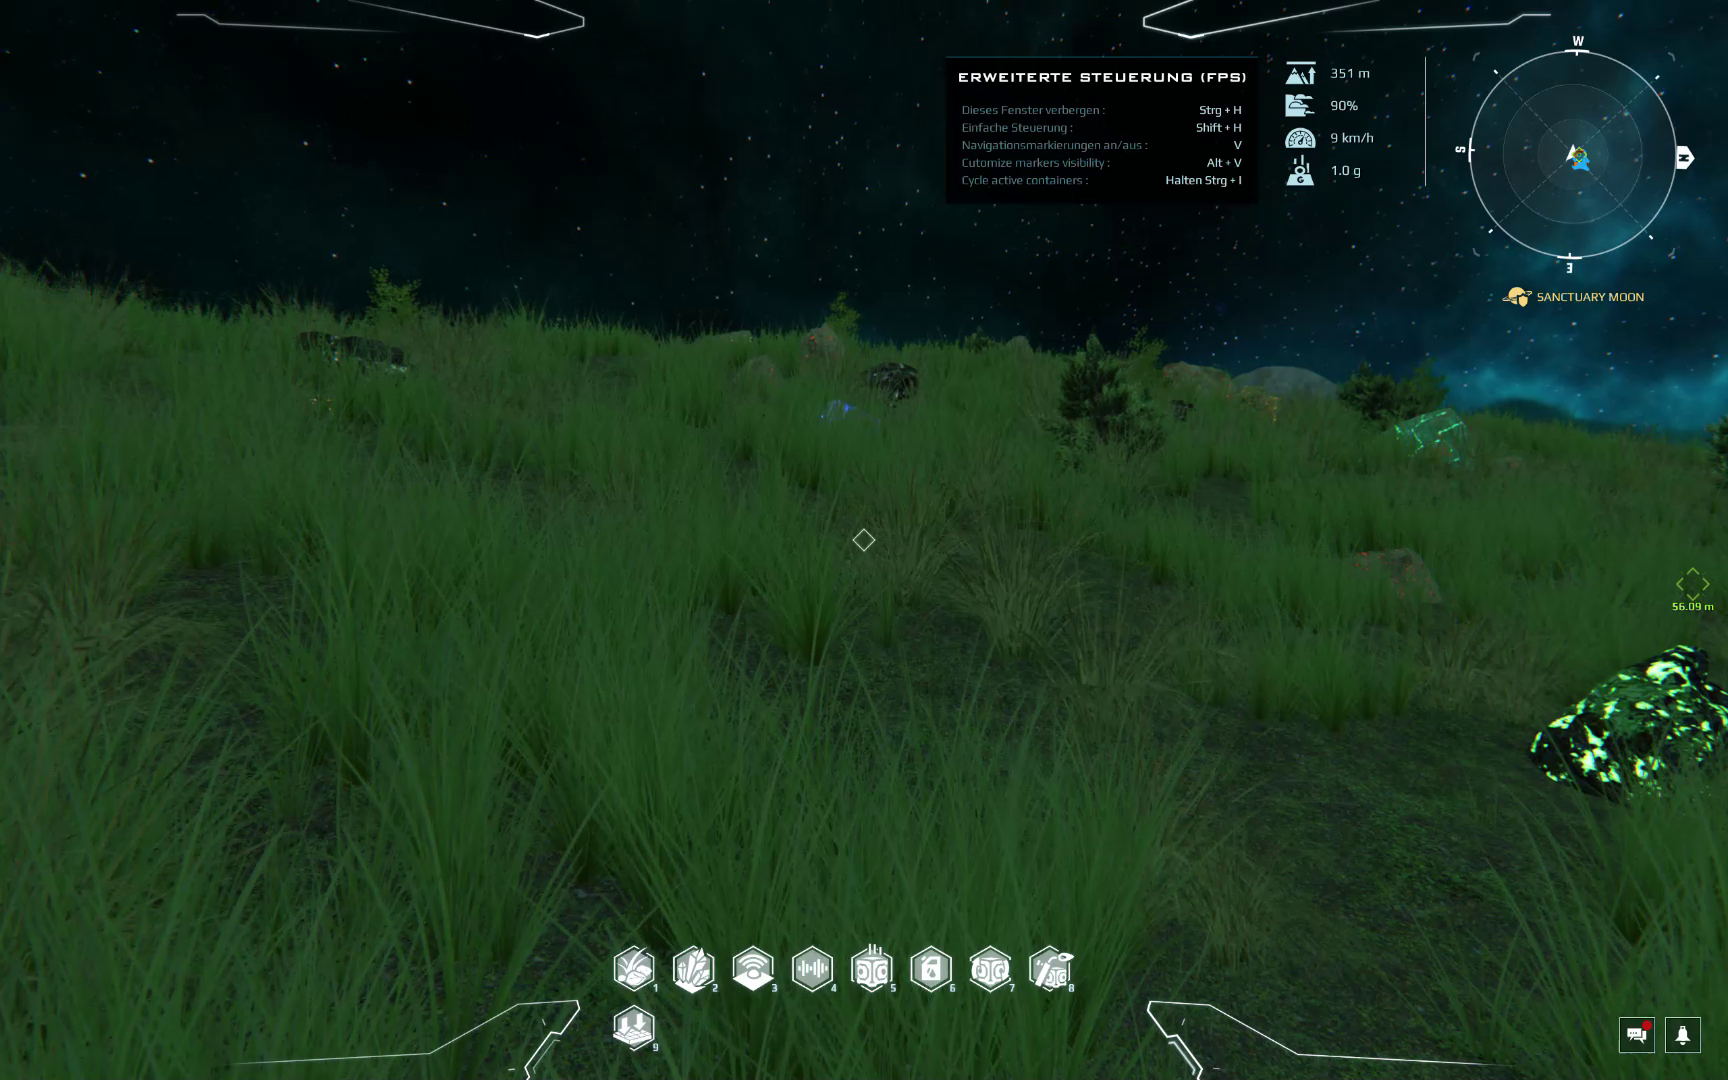Ore: (1529, 638, 1728, 819), (1366, 406, 1470, 482), (1337, 541, 1446, 606), (289, 328, 411, 382), (792, 326, 847, 381), (1162, 362, 1237, 402), (858, 361, 918, 409), (1225, 383, 1286, 428), (729, 353, 787, 399), (1479, 448, 1528, 486), (296, 388, 345, 426), (816, 397, 863, 426), (1163, 396, 1201, 427)
